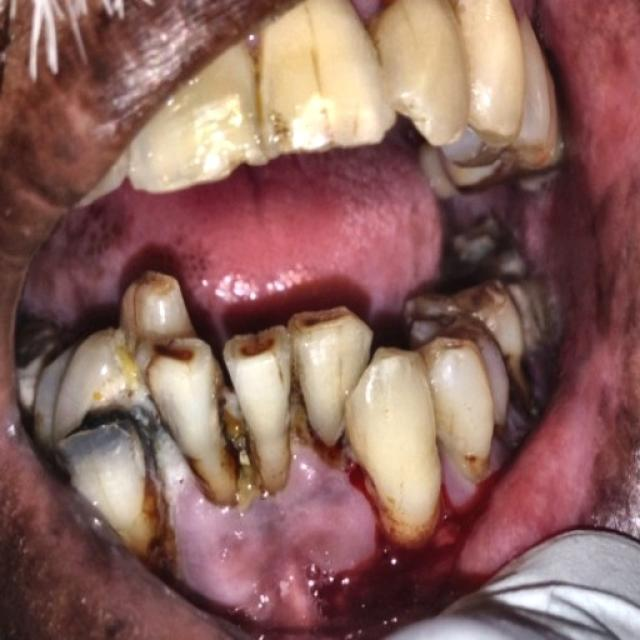cancer-detection: (161, 393, 386, 633), (23, 192, 141, 320)
processing_area: (24, 129, 443, 320), (111, 416, 407, 639)
